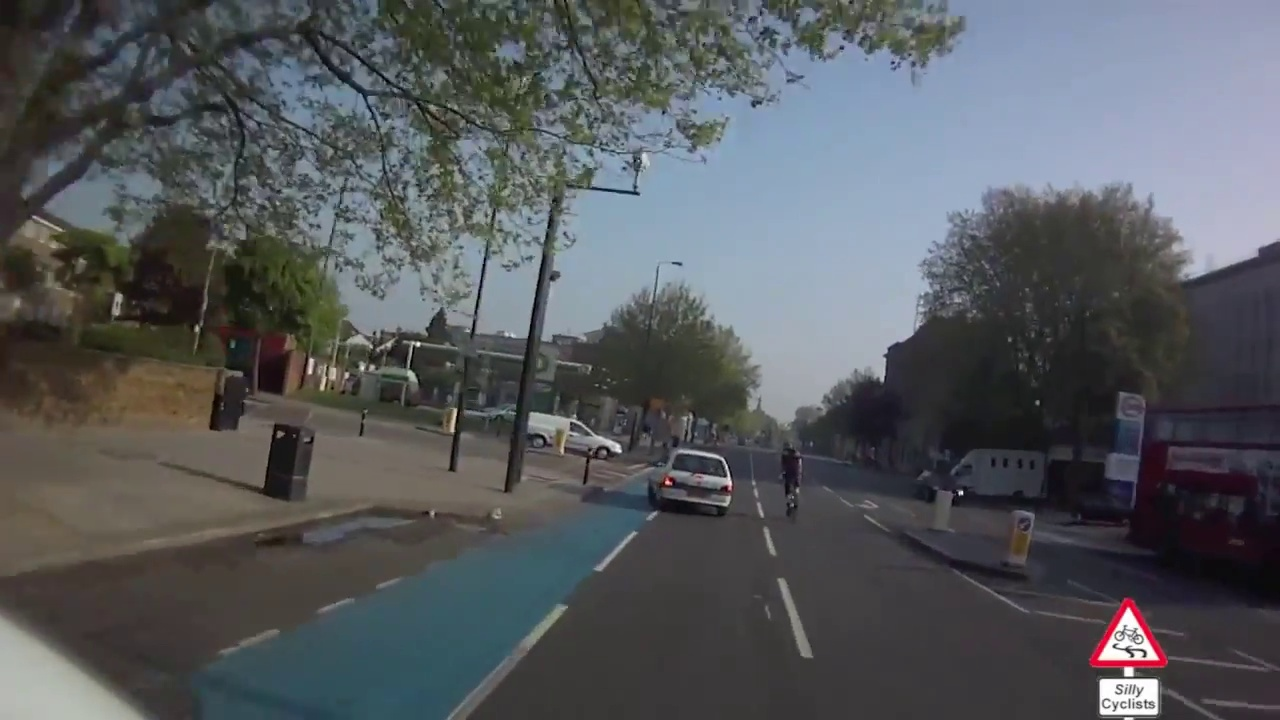cyclist_back: (776, 437, 807, 524)
